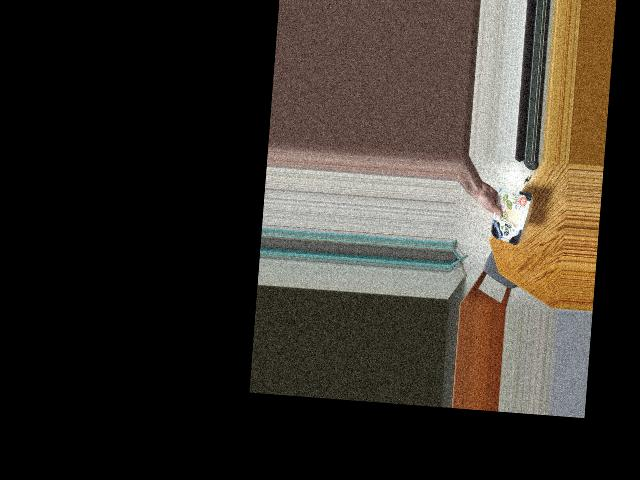cheese: (485, 196, 531, 239)
